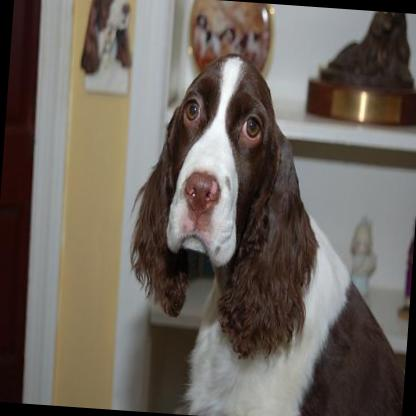English_springer: (117, 45, 416, 416)
